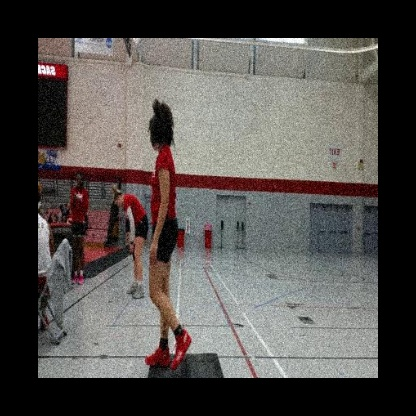lateral_flexion_left: (138, 99, 193, 378)
stance_width_broad: (143, 148, 189, 378)
